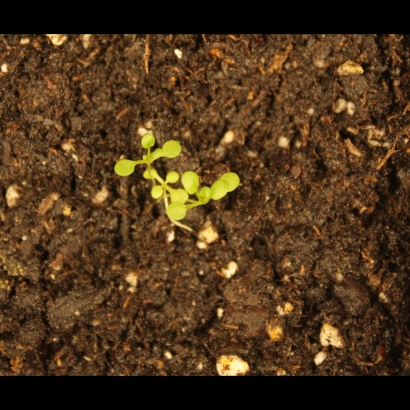leaf: (181, 168, 204, 198), (161, 137, 188, 161), (113, 157, 137, 180), (138, 129, 161, 152), (221, 171, 244, 194), (165, 200, 188, 223), (144, 185, 167, 208), (143, 163, 166, 186), (161, 170, 184, 193), (192, 186, 215, 209), (208, 178, 231, 201)
